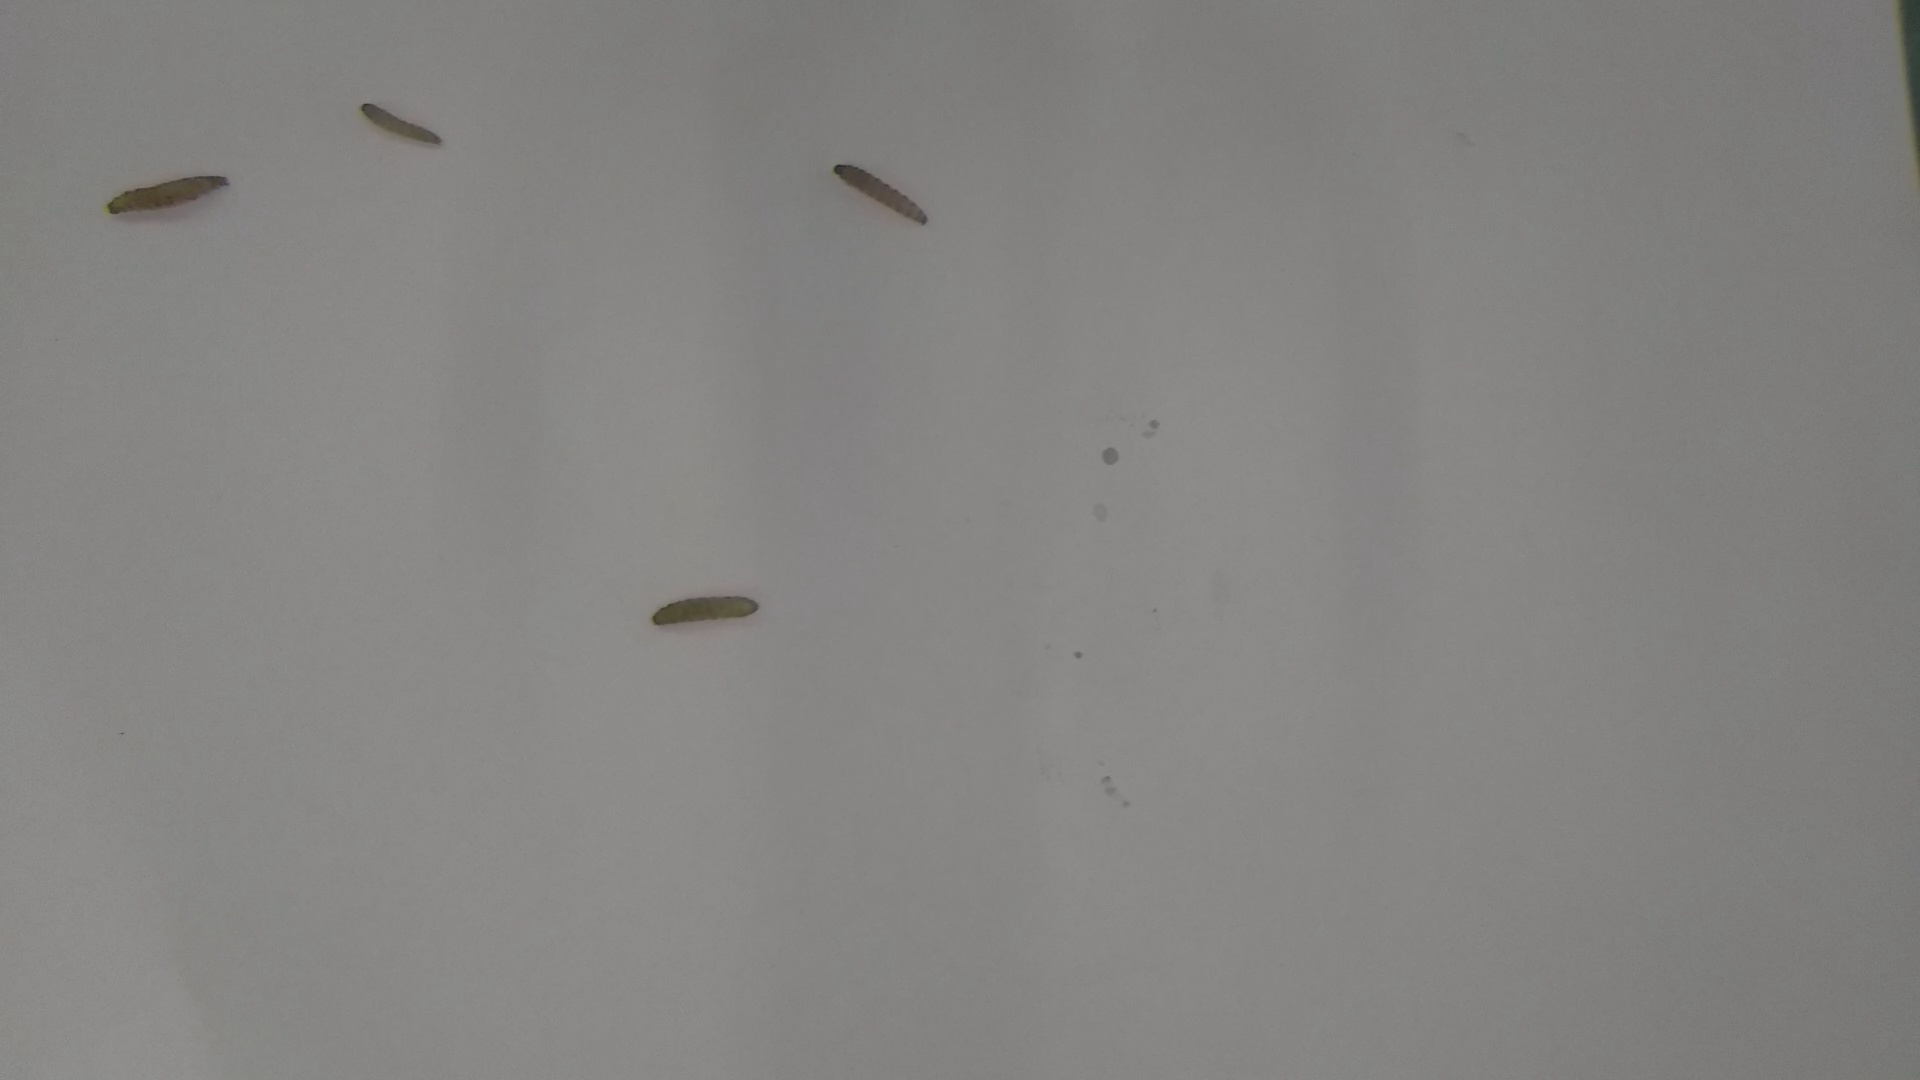efsb: (824, 157, 928, 232), (104, 169, 239, 225), (353, 100, 451, 152), (647, 589, 764, 630)
